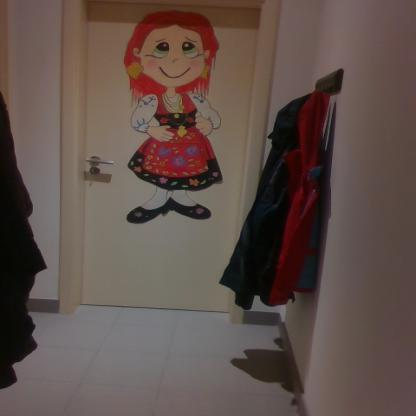door: (85, 0, 243, 310)
lever: (83, 156, 120, 167)
